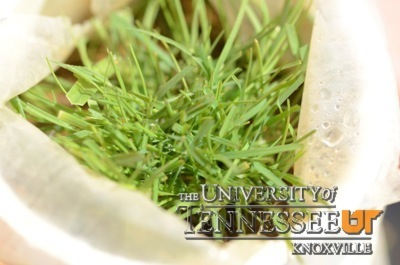crabgrass: (76, 50, 285, 190)
